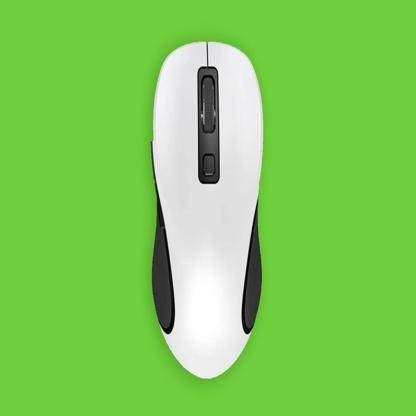not trash: (153, 40, 262, 379)
